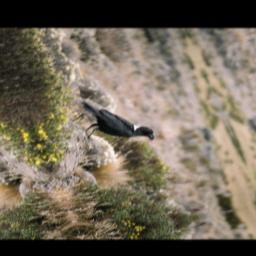Crow: (68, 90, 160, 153)
